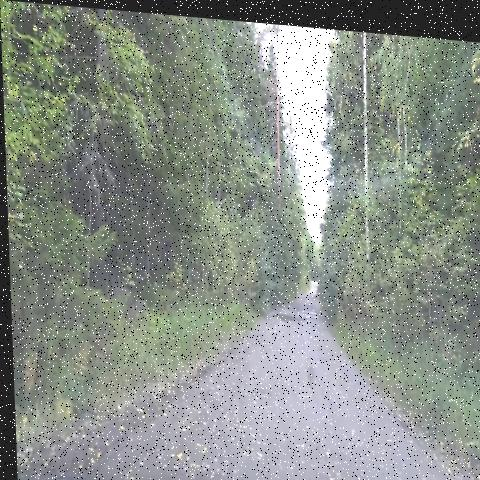pothole: (267, 295, 313, 331), (242, 373, 274, 406), (311, 465, 371, 480)
